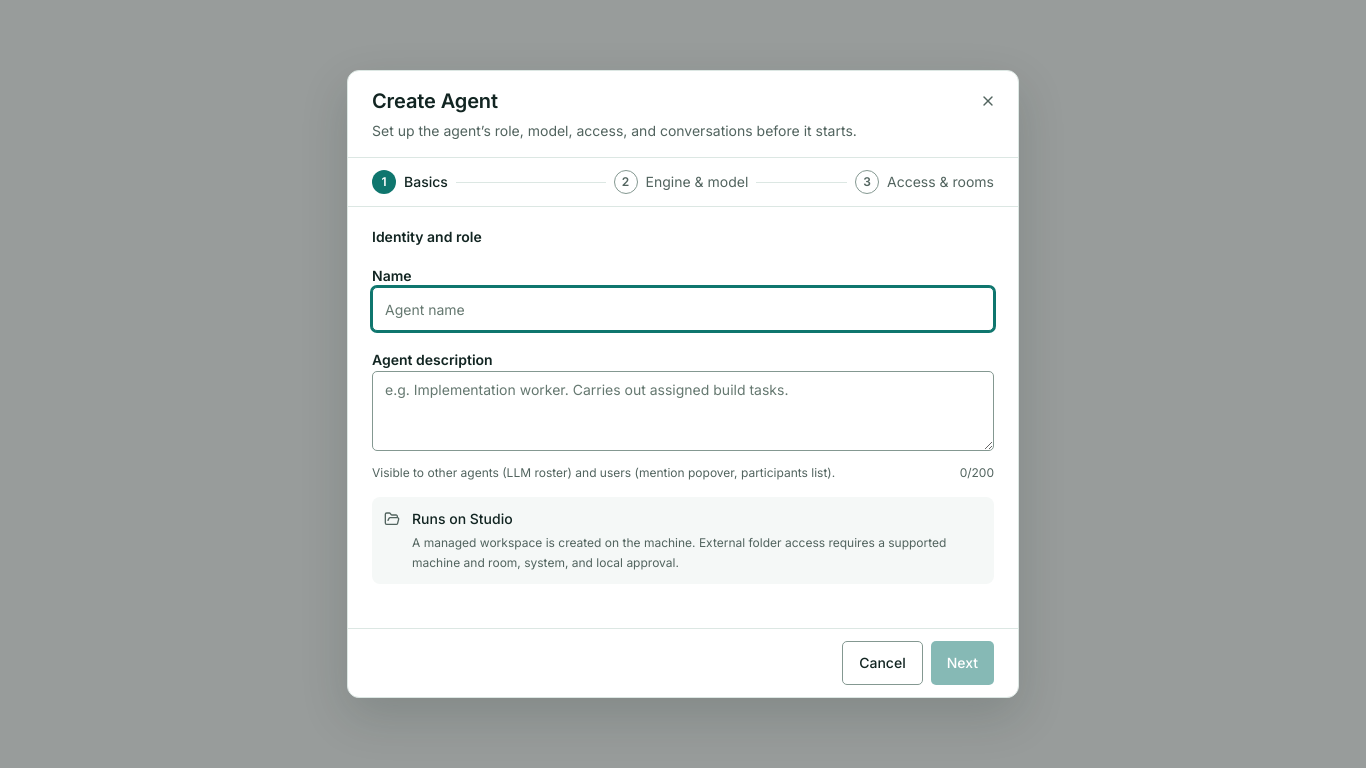
Scenario: checks the room it was opened from (#902)
Type "Reviewer" into the field labelled "Name".
click(683, 309); type("Reviewer")  # box [372,287,994,331]
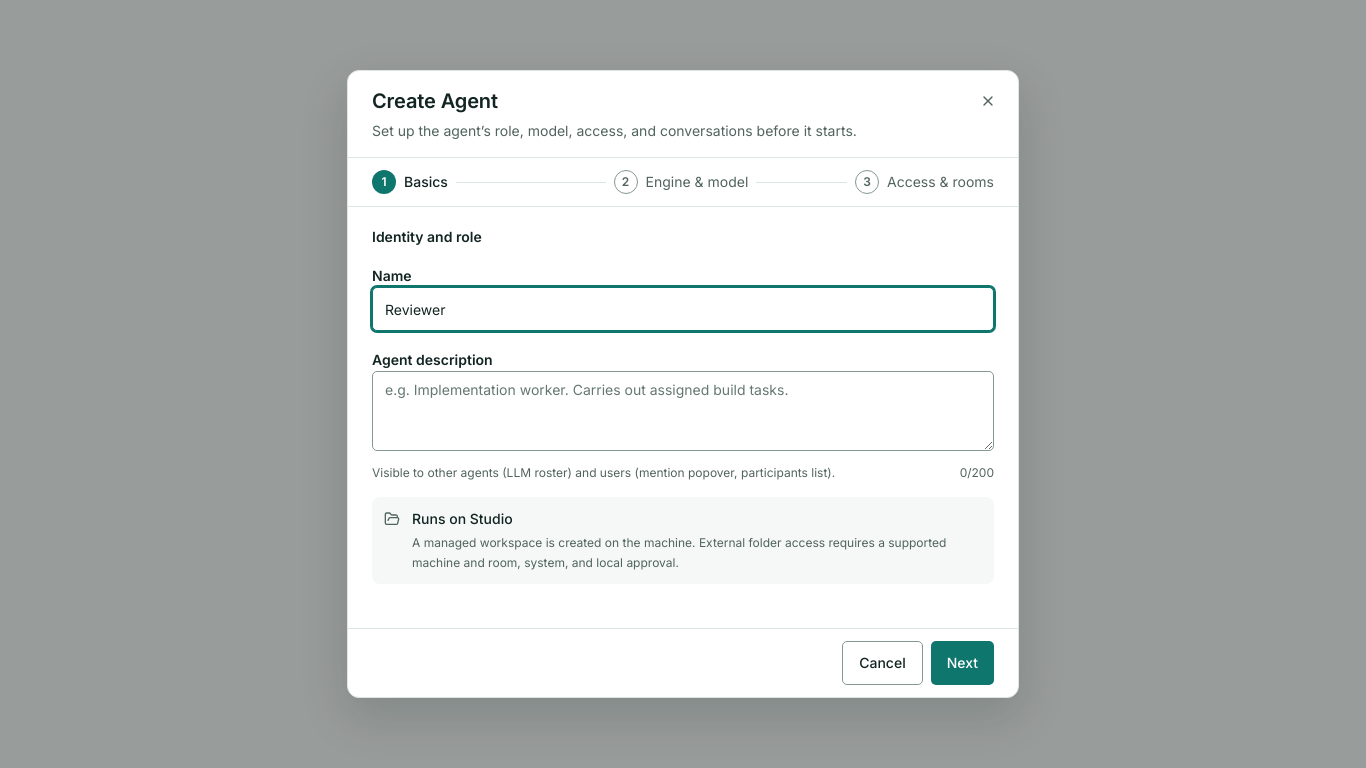
Click the button "Next".
click(962, 663)  # box [931,641,994,685]
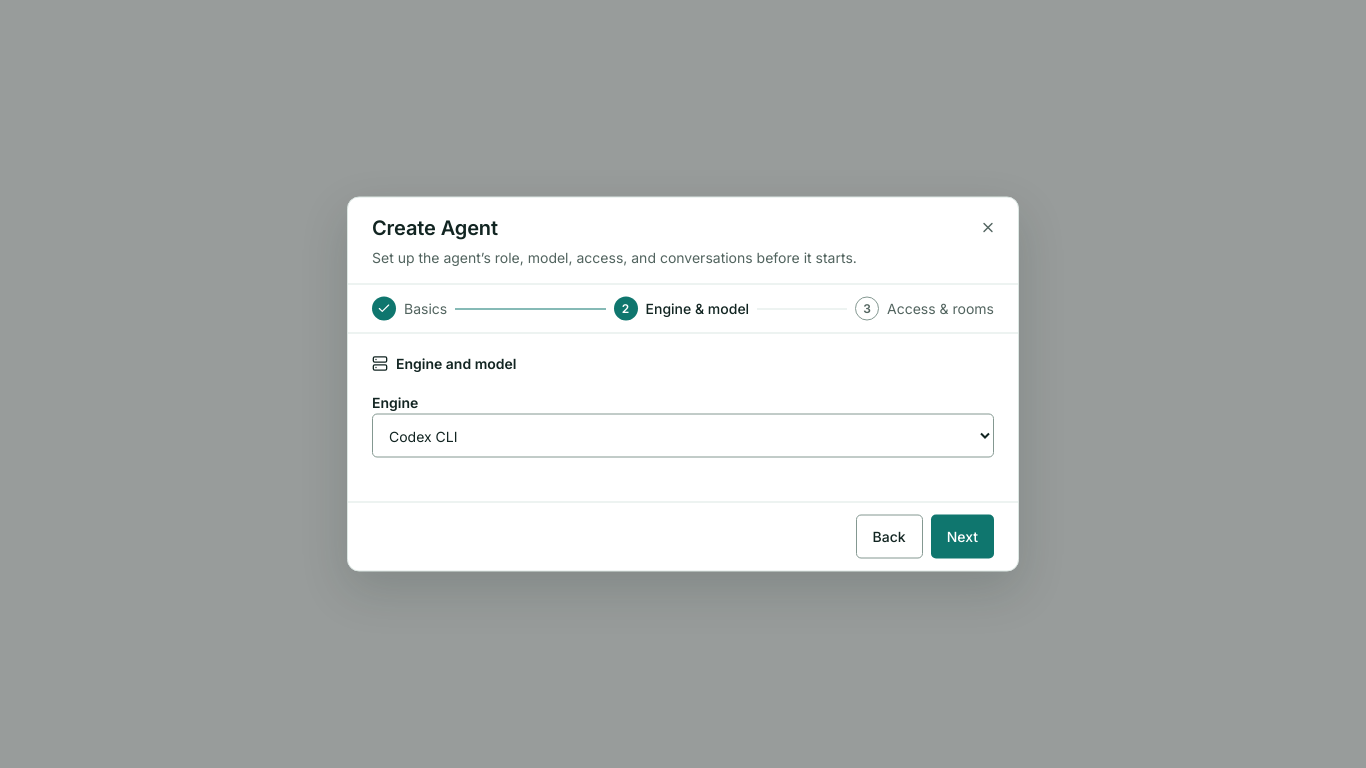
Click the button "Next".
click(962, 536)  # box [931,514,994,558]
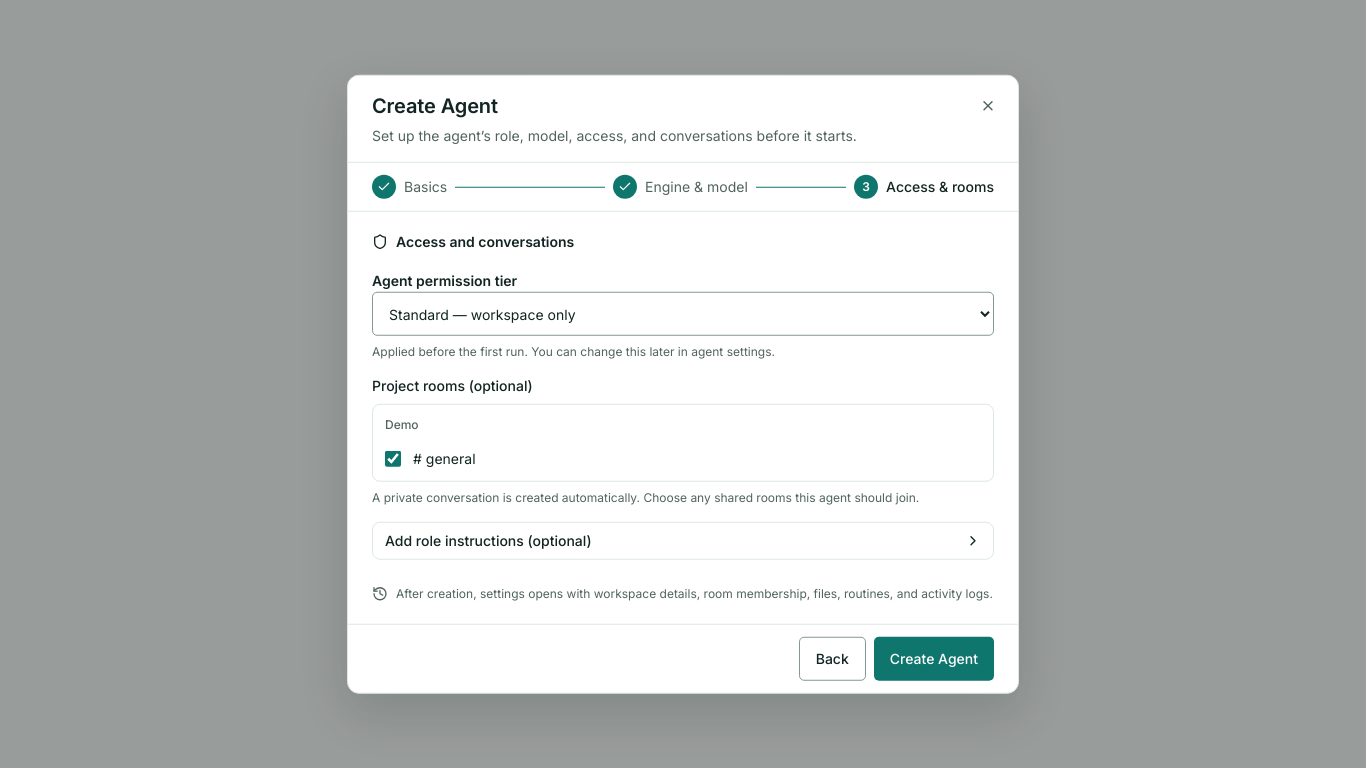
expect the checkbox labelled "# general" is checked: met, box [385,451,401,467]
